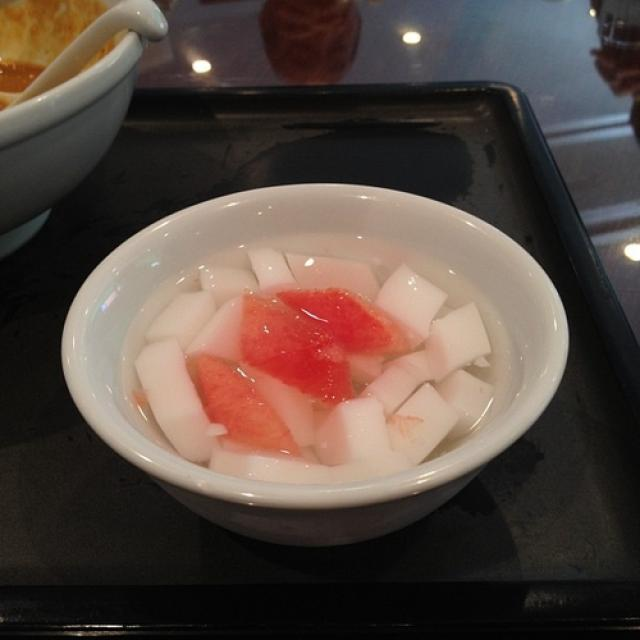面条主食: (12, 70, 634, 589)
